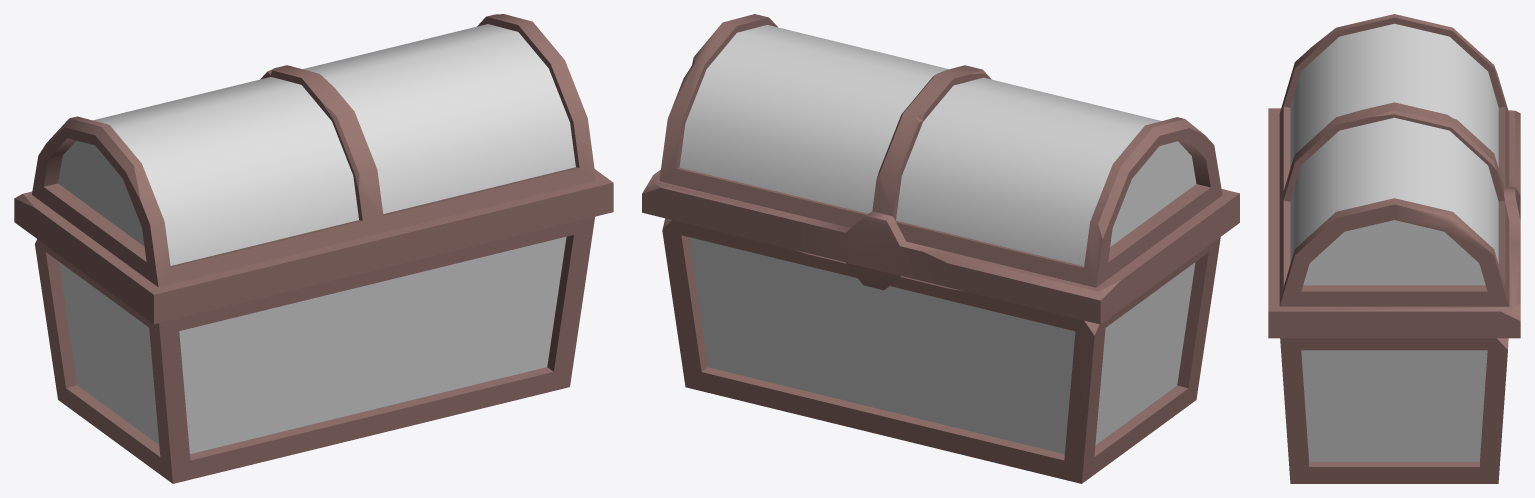
The model's file is Chest.gltf.
3 renders of one model, left to right at view 1: azimuth 30°, elevation 25°; view 2: azimuth 150°, elevation 25°; view 3: azimuth 270°, elevation 25°, orthographic. The views are drawn at different scales.
Visible parts, largest first — view 1: Treasure chest top, Treasure chest top.001; view 2: Treasure chest top, Treasure chest top.001; view 3: Treasure chest top, Treasure chest top.001.
Boxes of the visible parts, x1=… form: Treasure chest top: x1=14, y1=14, x2=613, y2=324; Treasure chest top.001: x1=35, y1=216, x2=594, y2=483; Treasure chest top: x1=642, y1=14, x2=1239, y2=324; Treasure chest top.001: x1=662, y1=218, x2=1220, y2=483; Treasure chest top: x1=1268, y1=14, x2=1520, y2=338; Treasure chest top.001: x1=1280, y1=338, x2=1508, y2=483.
Size of the model in its own units: 2.1 by 1.39 by 1.1.
